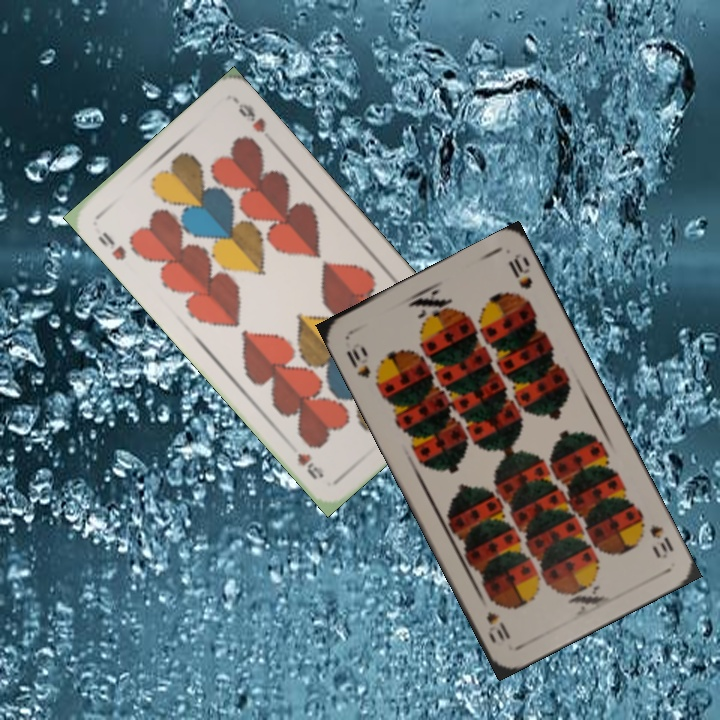H9: (93, 227, 129, 263)
S10: (645, 519, 677, 561), (342, 344, 373, 381)
